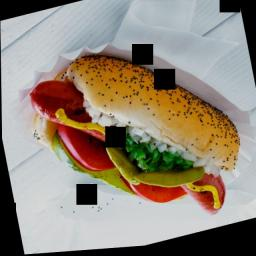hotdog: (21, 18, 250, 254)
